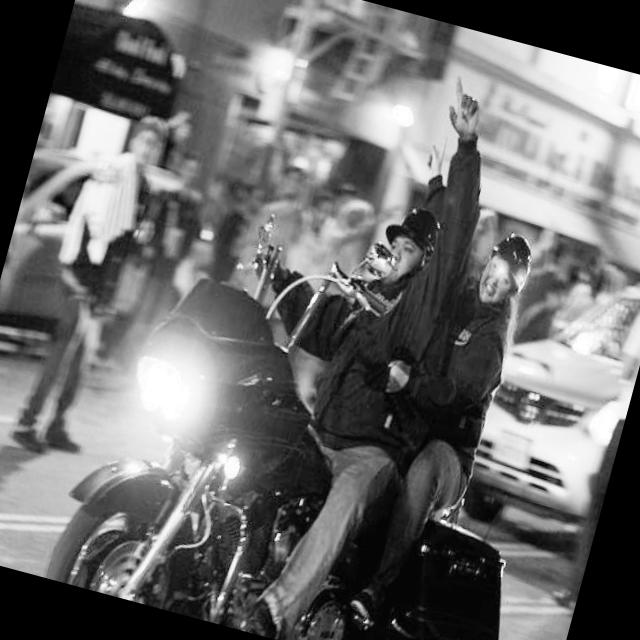Motorcycle: (40, 205, 589, 640)
Person: (205, 175, 460, 508), (360, 211, 538, 538)
